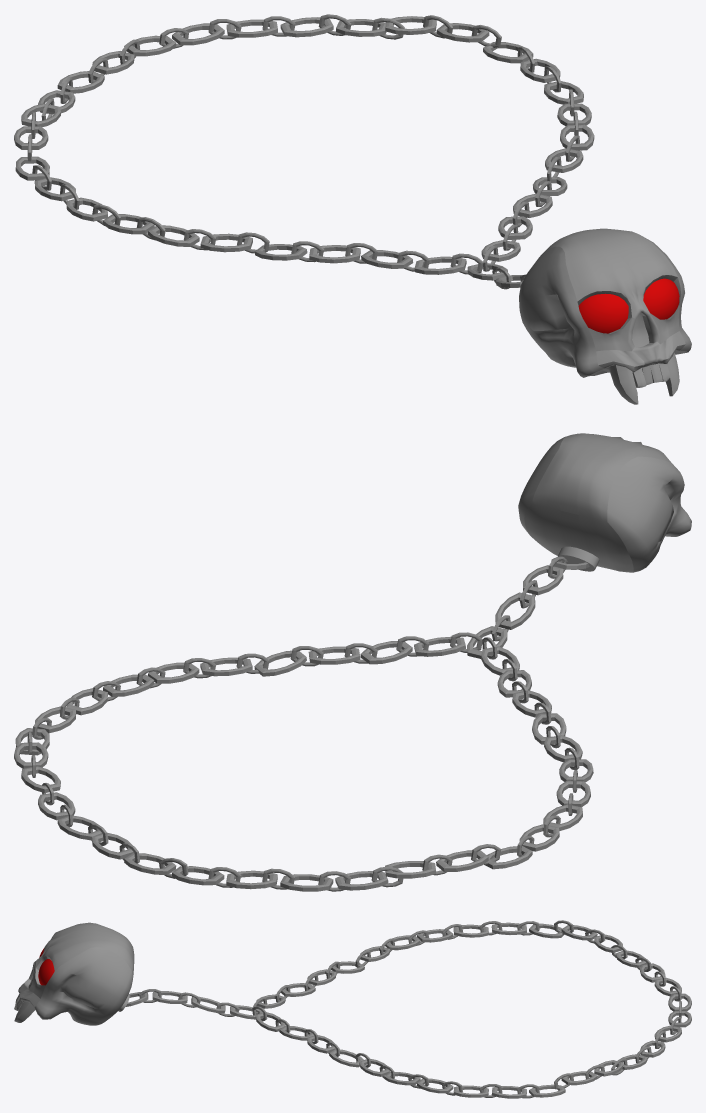
The model's file is FbxSkull.fbx.
The picture shows the model from 3 angles, top to bottom: view 1: azimuth 30°, elevation 25°; view 2: azimuth 150°, elevation 25°; view 3: azimuth 270°, elevation 25°; orthographic projection. The views are drawn at different scales.
Visible parts, largest first — view 1: necklaceRender:chain, necklaceRender:Skull; view 2: necklaceRender:chain, necklaceRender:Skull; view 3: necklaceRender:chain, necklaceRender:Skull.
Boxes of the visible parts, x1,y1,x2,y2 form: necklaceRender:chain: (14,14,594,289); necklaceRender:Skull: (519,228,691,404); necklaceRender:chain: (14,556,593,891); necklaceRender:Skull: (518,433,691,572); necklaceRender:chain: (125,920,691,1098); necklaceRender:Skull: (14,922,134,1025).
Bounding box in the file's own units: 14.46 × 3.3 × 23.9.
